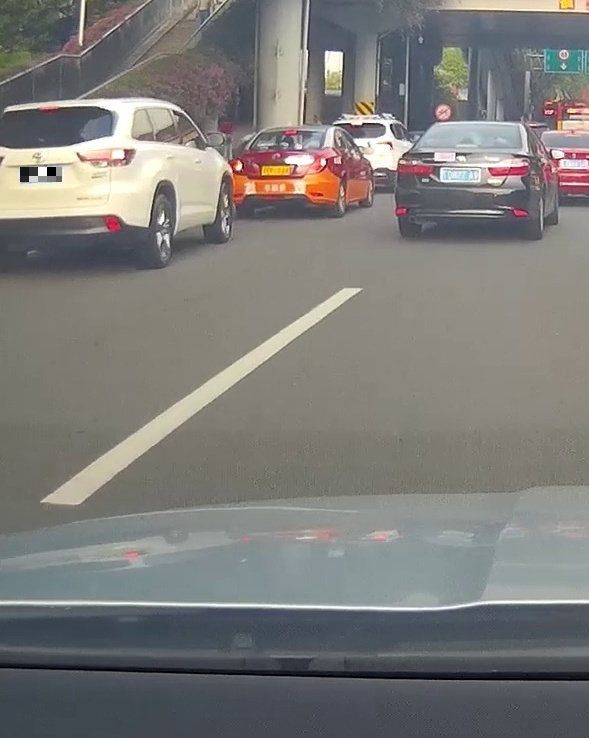L_light: (397, 157, 435, 174), (232, 158, 247, 176)
R_light: (488, 158, 529, 176), (307, 158, 327, 175)
T_light: (454, 143, 478, 148), (285, 130, 297, 134)
day-no: (394, 121, 531, 236)
night-right: (231, 127, 333, 220)
plate_1: (20, 167, 62, 182)
